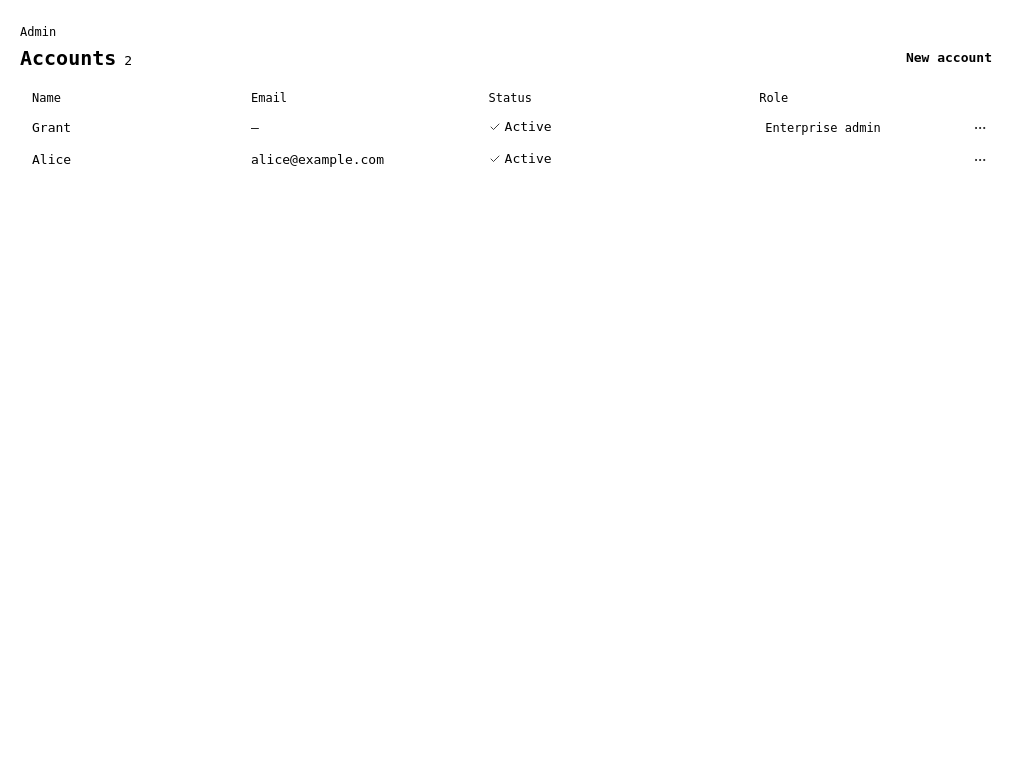
/admin/accounts（ListPage） › 取消确认：不发请求
Click the button named "Row actions" in the row of "Grant": (980, 128) [968, 116, 992, 140]
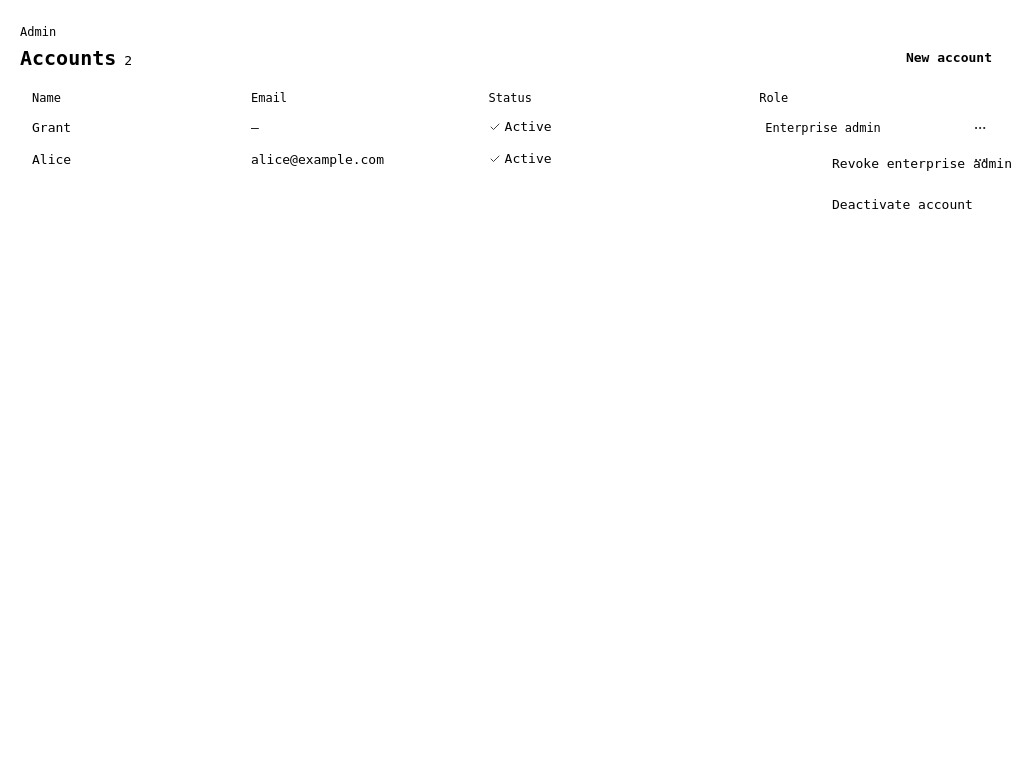
Click the menu item "Revoke enterprise admin": (922, 164) [832, 156, 1012, 171]
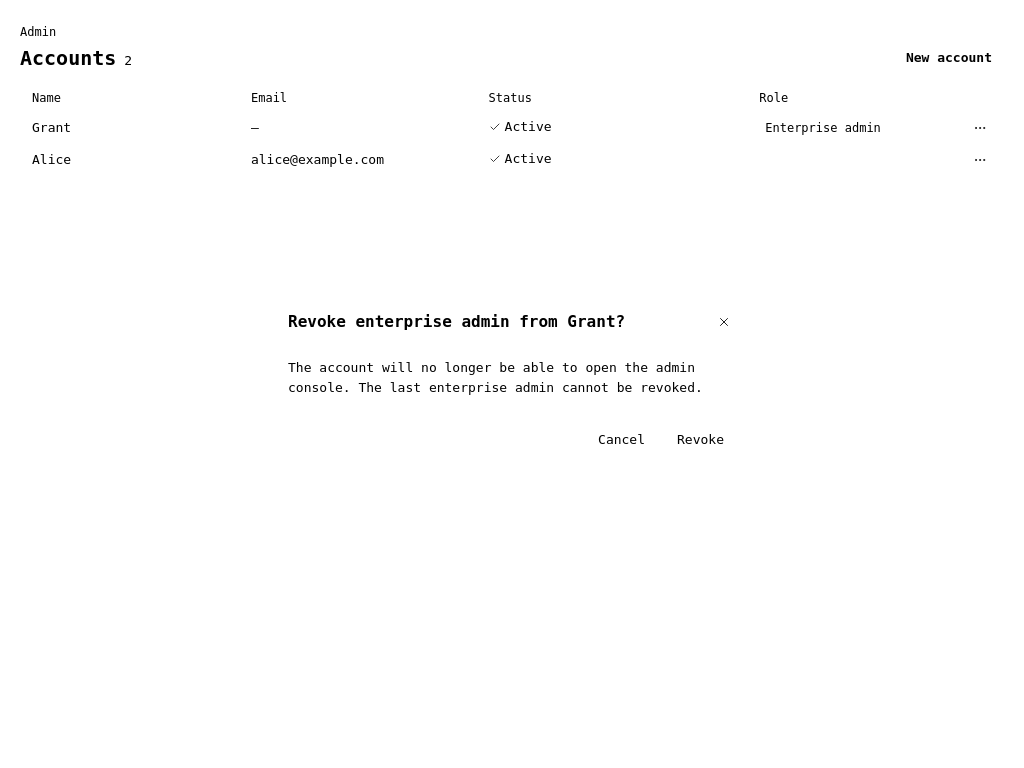
Click the button "Cancel": (622, 440) [586, 426, 657, 454]
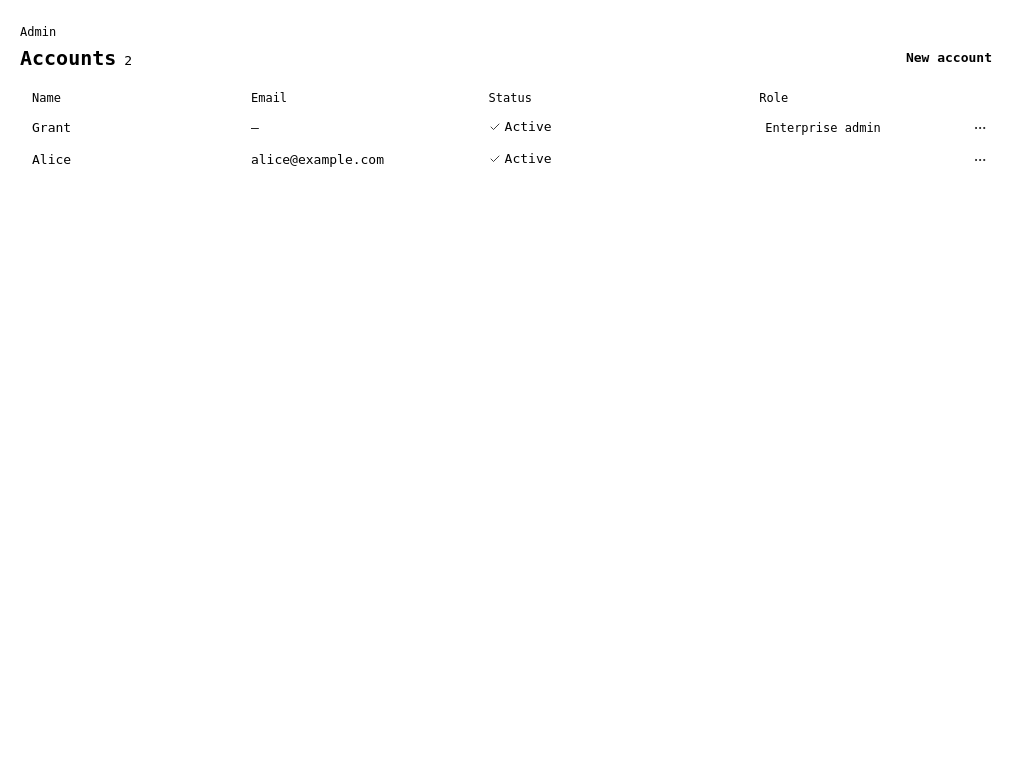
Check: the dialog is gone
